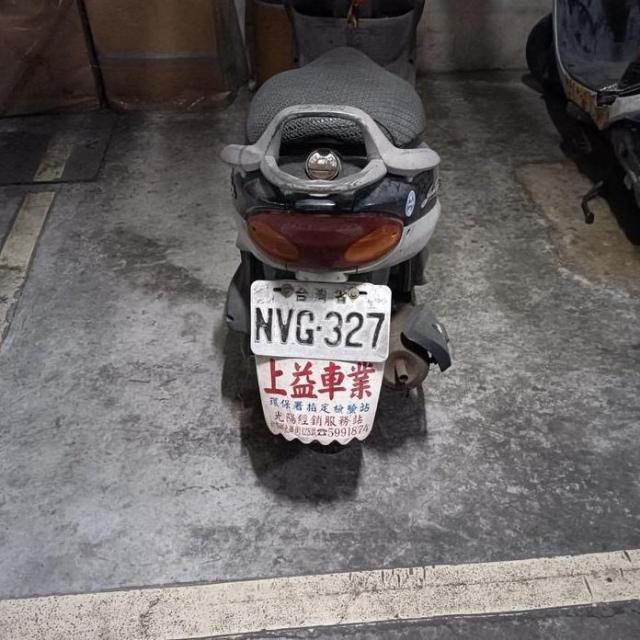W: (245, 274, 396, 364)
